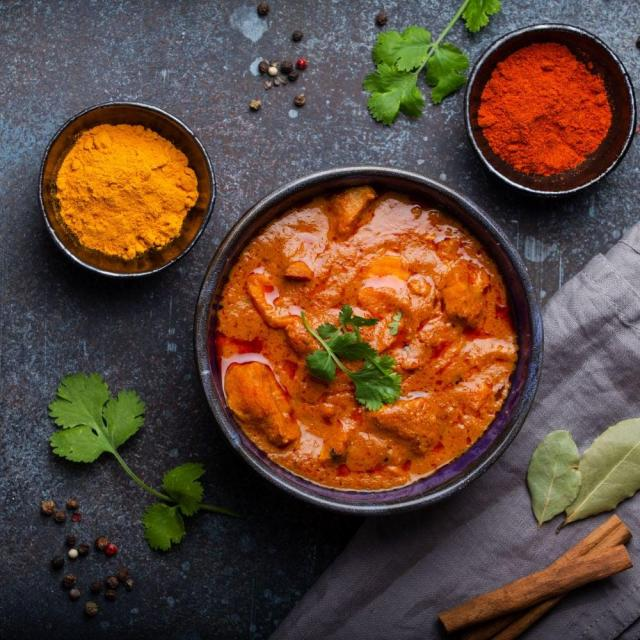chicken: (211, 180, 528, 491)
